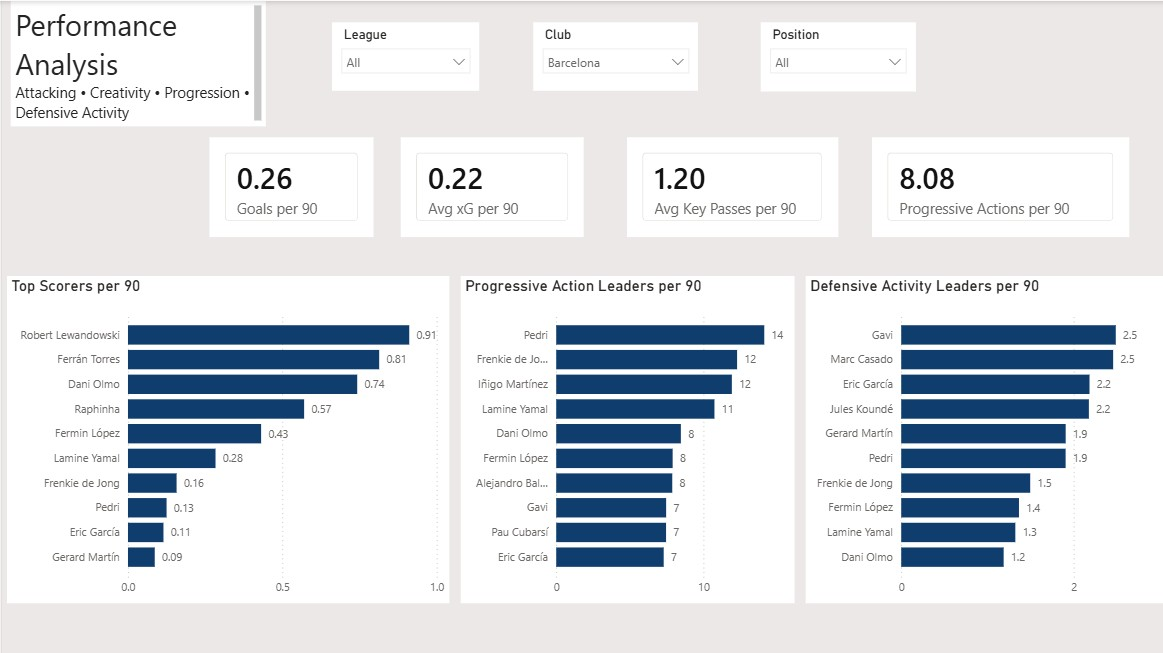

This screenshot's page, from the dashboard's own definition file:
{"tool":"powerbi","page":{"name":"Performance Analysis","canvas":[1280,720],"ordinal":1},"visuals":[{"type":"textbox","box":[9.6,0,279.9,137.2],"z":0},{"type":"slicer","fields":{"Values":["Players.Squad"]},"box":[583.2,23.3,181.1,75.5],"z":1},{"type":"slicer","fields":{"Values":["Players.Comp"]},"box":[362.3,23.3,161.9,75.5],"z":2},{"type":"slicer","fields":{"Values":["Players.Pos"]},"box":[832.9,23.3,170,75.7],"z":3},{"type":"cardVisual","fields":{"Data":["Players.Avg Goals per 90"]},"box":[227.8,149.6,180.2,109.3],"z":4},{"type":"cardVisual","fields":{"Data":["Players.Avg xG per 90"]},"box":[437.7,149.6,201.2,109.3],"z":5},{"type":"cardVisual","fields":{"Data":["Players.Avg Key Passes per 90"]},"box":[686.1,149.6,231.9,109.8],"z":6},{"type":"cardVisual","fields":{"Data":["Players.Avg Progressive Actions per 90"]},"box":[955.1,149.6,282.7,109.8],"z":7},{"type":"clusteredBarChart","title":"Top Scorers per 90","fields":{"Category":["Players.Player"],"Y":["Players.Avg Goals per 90"]},"box":[5.5,301.9,485.8,359.5],"z":8},{"type":"clusteredBarChart","title":"Progressive Action Leaders per 90","fields":{"Category":["Players.Player"],"Y":["Players.Avg Progressive Actions per 90"]},"box":[503.6,301.9,366.4,359.5],"z":9},{"type":"clusteredBarChart","title":"Defensive Activity Leaders per 90","fields":{"Y":["Players.Tackles per 90"],"Category":["Players.Player"]},"box":[882.3,301.9,397.9,359.5],"z":10}]}

Visuals, with their boxes in screenshot pixels (x1, y1, x2, y2), scaled from the page's 1280x720 canvas onto the 1163x653 screenshot:
textbox: 9 0 263 124
slicer - Players.Squad: 530 21 694 90
slicer - Players.Comp: 329 21 476 90
slicer - Players.Pos: 757 21 911 90
cardVisual - Players.Avg Goals per 90: 207 136 371 235
cardVisual - Players.Avg xG per 90: 398 136 581 235
cardVisual - Players.Avg Key Passes per 90: 623 136 834 235
cardVisual - Players.Avg Progressive Actions per 90: 868 136 1125 235
"Top Scorers per 90" clusteredBarChart: 5 274 446 600
"Progressive Action Leaders per 90" clusteredBarChart: 458 274 790 600
"Defensive Activity Leaders per 90" clusteredBarChart: 802 274 1162 600
